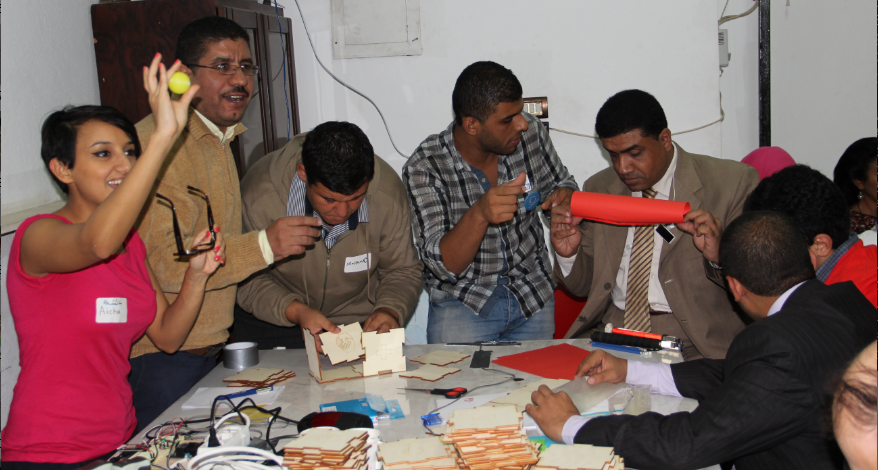person: (392, 61, 572, 349), (132, 36, 275, 378), (29, 102, 158, 467), (569, 91, 731, 344), (700, 233, 864, 459), (255, 126, 410, 339)
